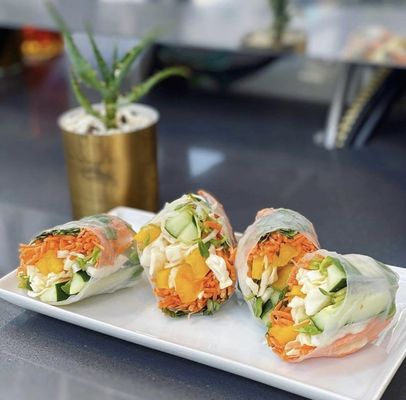pizza: (57, 101, 161, 220)
soup: (234, 207, 400, 363), (134, 187, 239, 318)
